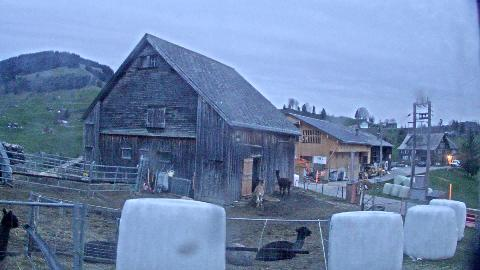car: (450, 160, 460, 166), (418, 161, 426, 167)
sheep: (256, 226, 310, 264), (0, 210, 20, 258), (82, 240, 118, 264), (226, 242, 254, 266), (276, 169, 292, 197), (254, 178, 266, 208), (12, 164, 28, 173), (39, 171, 57, 177)
